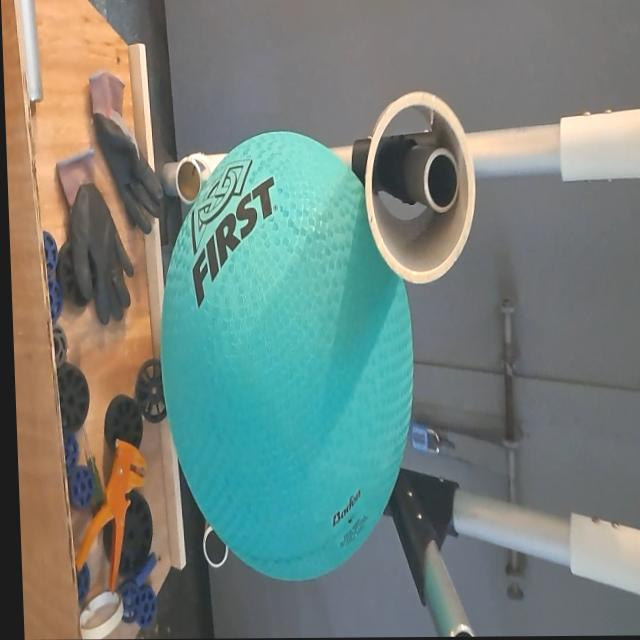ALGAE: (148, 127, 423, 588)
CORAL: (362, 93, 483, 284)
